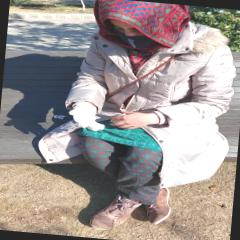gloved: (65, 103, 108, 132)
not-gloved: (108, 108, 166, 134)
